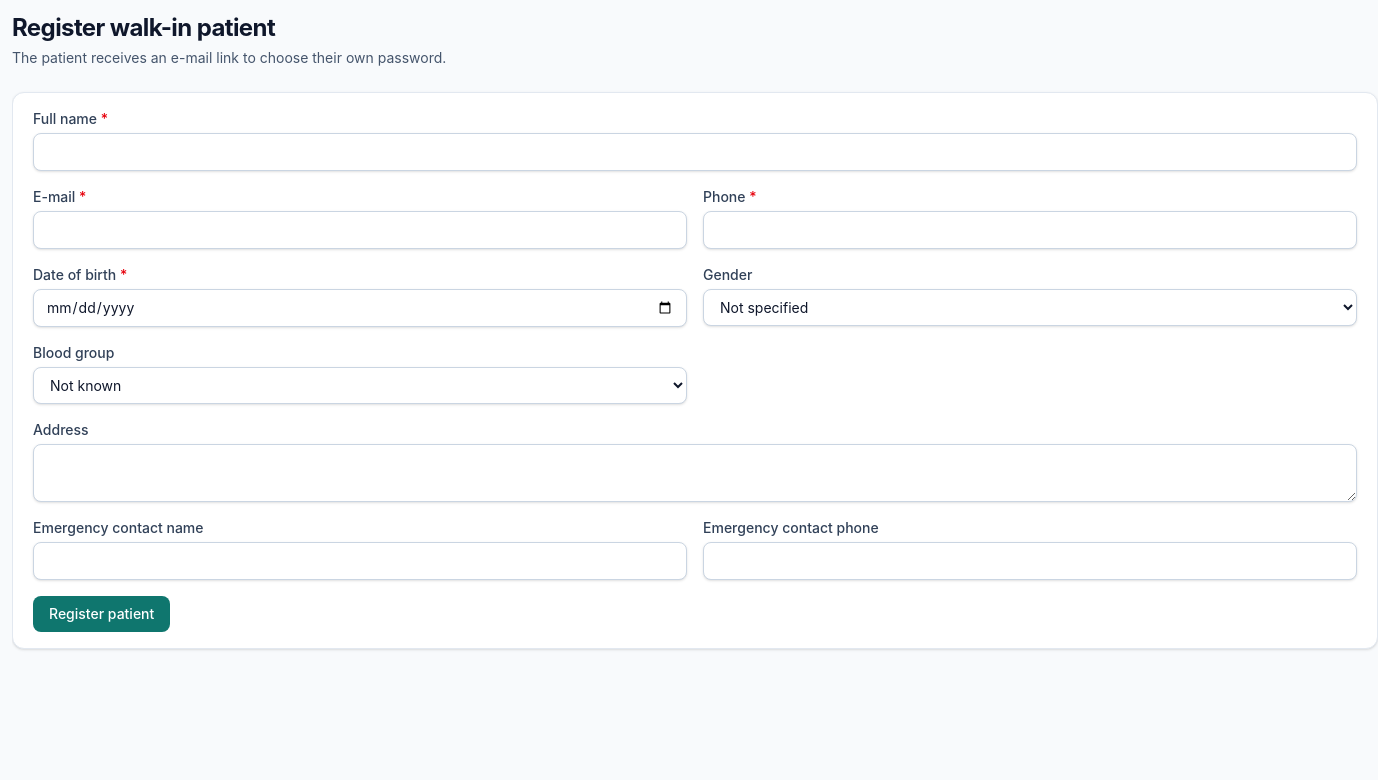
it: RegisterWalkInPage › maps a duplicate e-mail to the e-mail field
Type "Test Walkin" into the field labelled "Full name *".
click(695, 152); type("Test Walkin")  # box [33,133,1357,171]
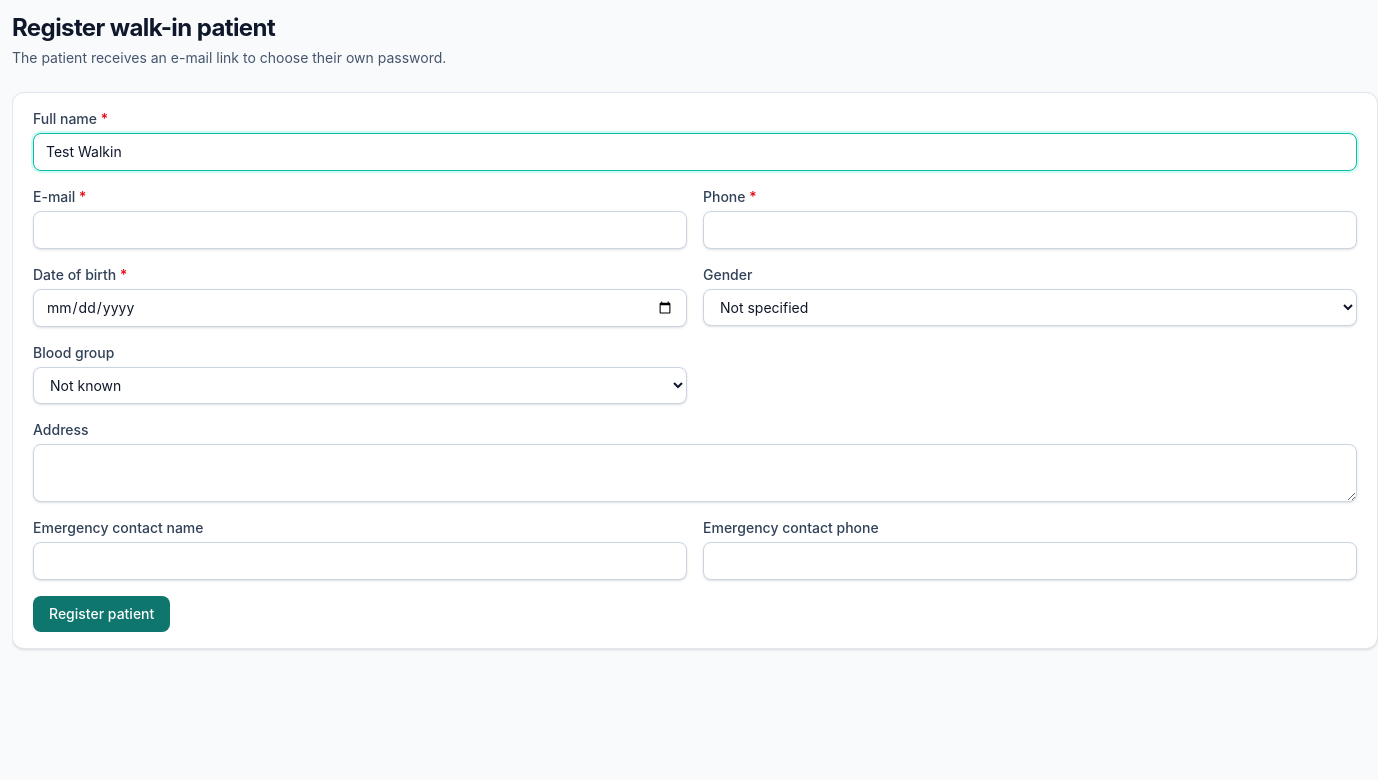
Type "walkin@test.example" into the field labelled "E-mail *".
click(360, 230); type("walkin@test.example")  # box [33,211,687,249]
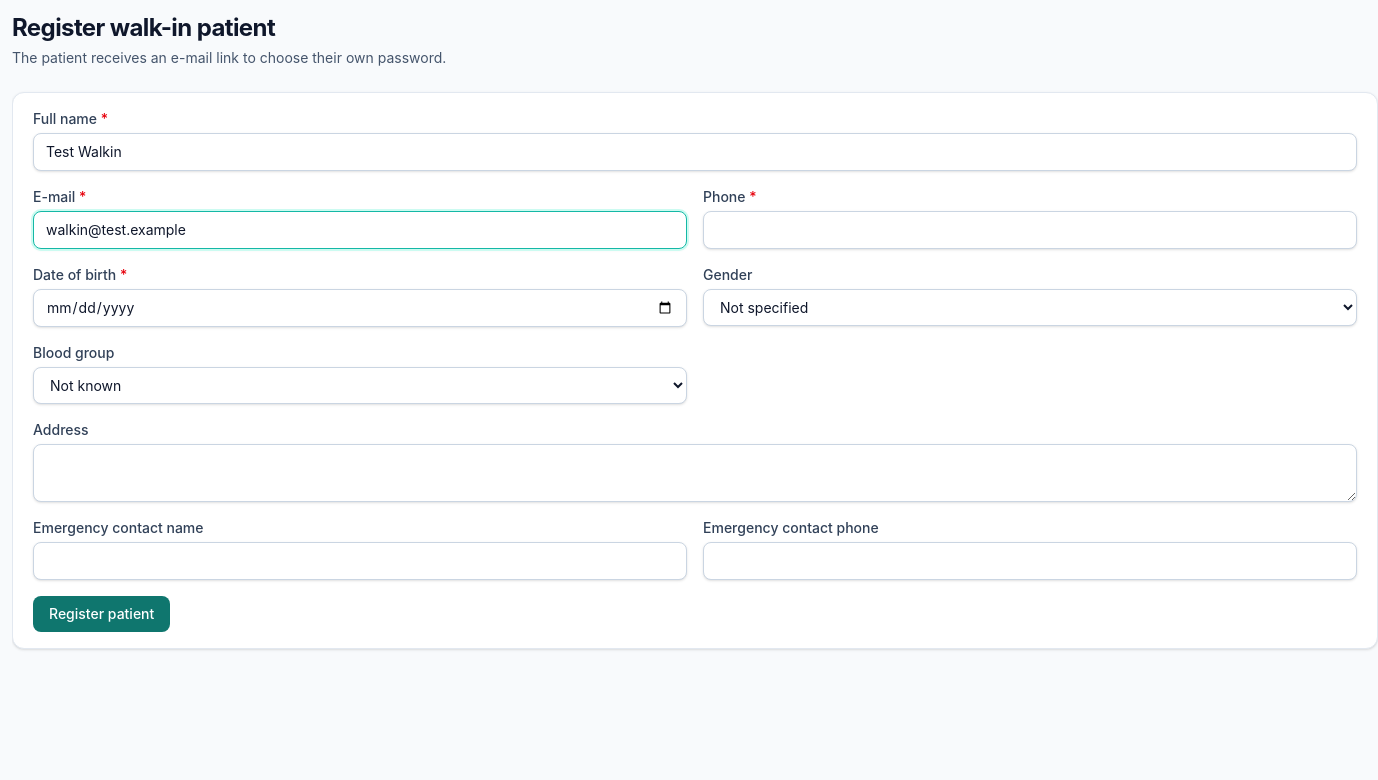
Type "+919800000001" into the field labelled "Phone *".
click(1030, 230); type("+919800000001")  # box [703,211,1357,249]
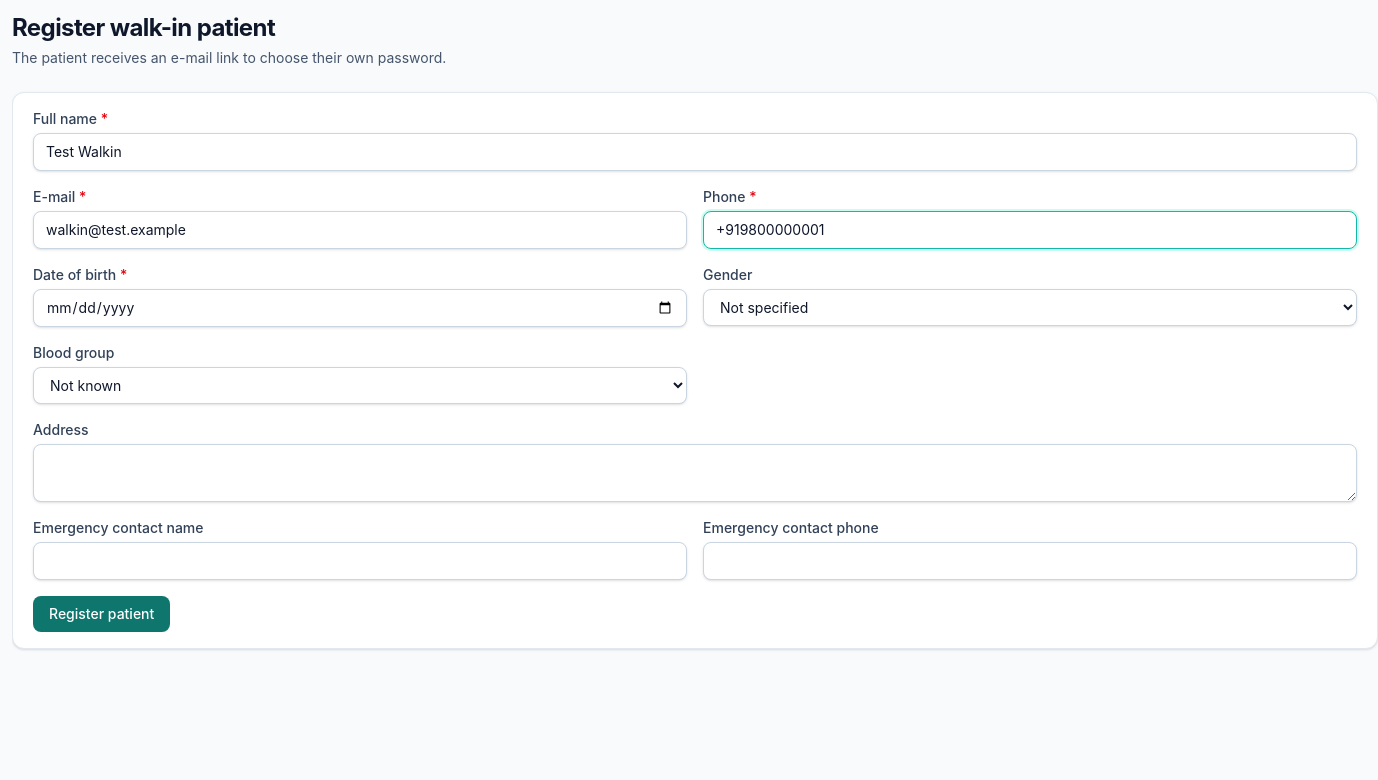
Type "1990-05-01" into the date field labelled "Date of birth *".
click(360, 308); type("1990-05-01")  # box [33,289,687,327]
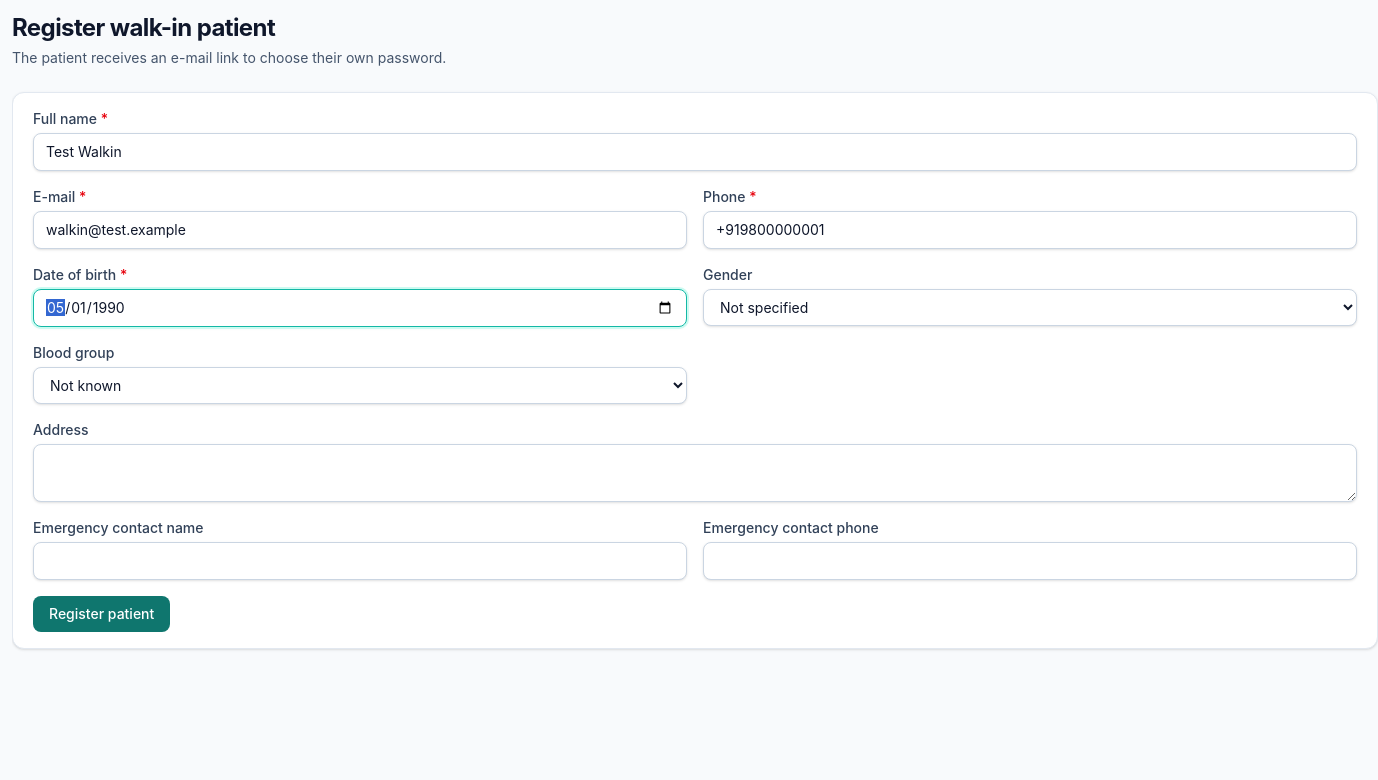
Click the button "Register patient".
click(102, 614)  # box [33,596,170,632]
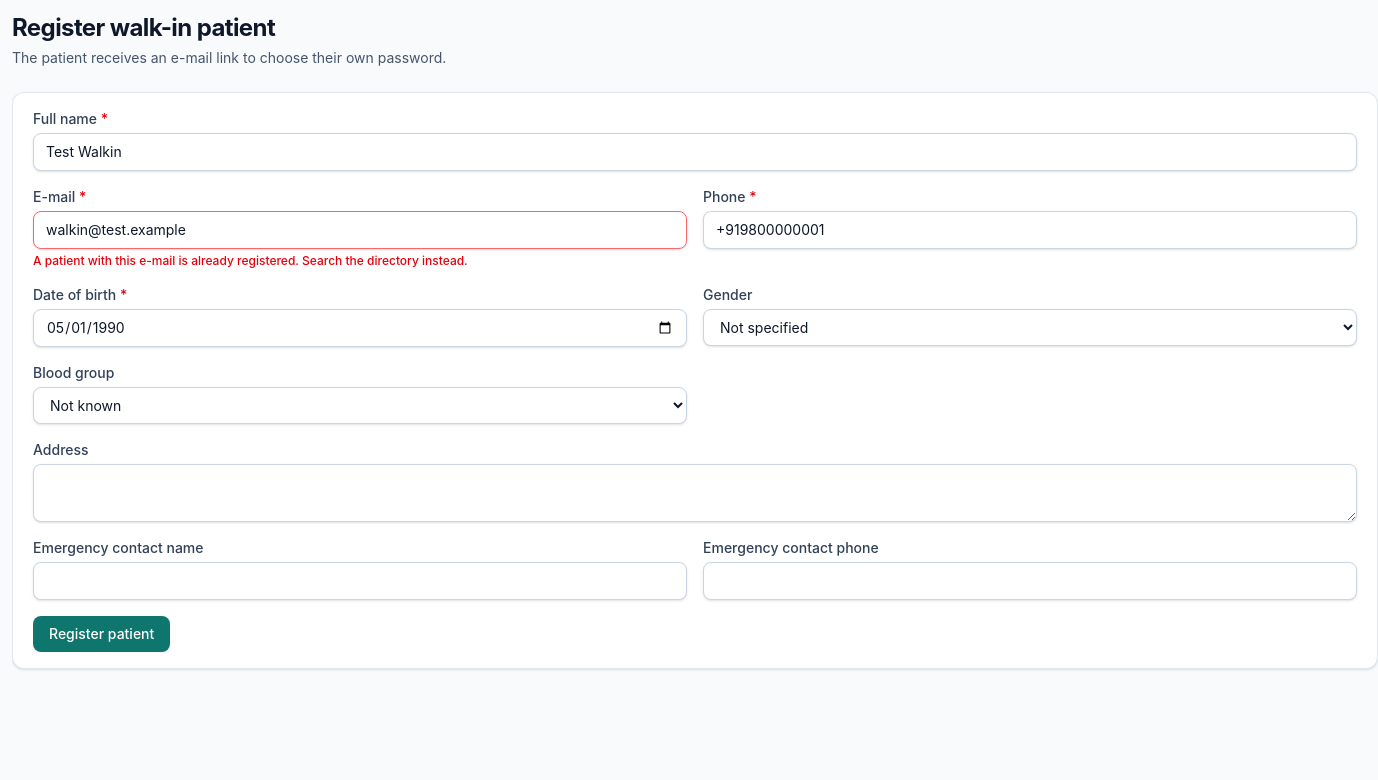
Now the text "already registered" is shown, box [33,253,468,268]
